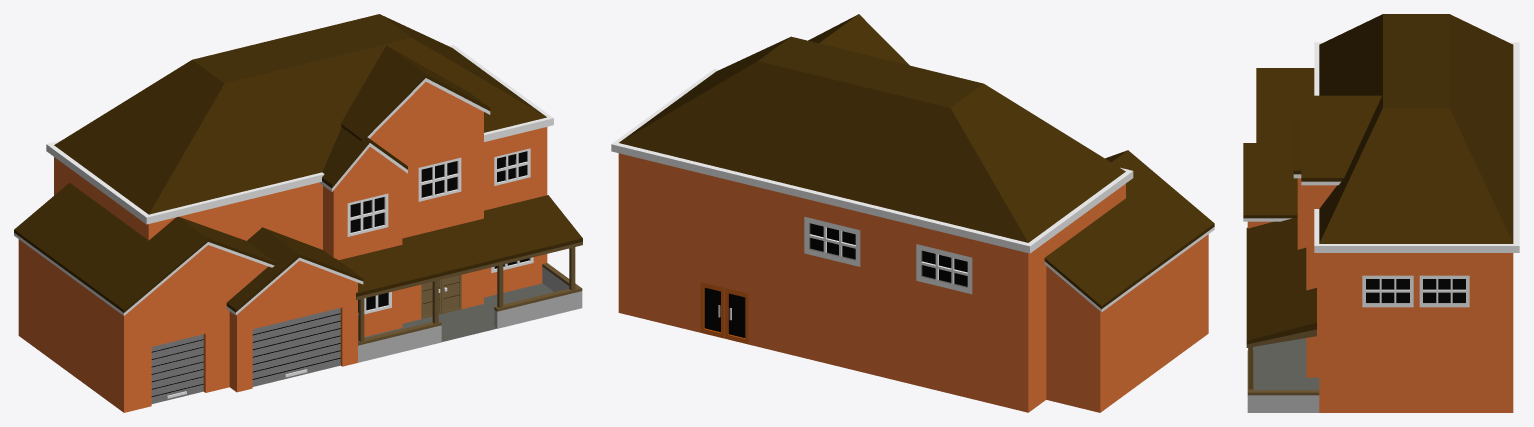
The model's file is House-01.fbx.
3 views of the same model, side by side, from view 1: azimuth 30°, elevation 25°; view 2: azimuth 150°, elevation 25°; view 3: azimuth 270°, elevation 25° (orthographic). The views are drawn at different scales.
Visible parts, largest first — view 1: Cube; view 2: Cube; view 3: Cube.
Boxes of the visible parts, bbox=[...] form: Cube: bbox=[14, 14, 582, 412]; Cube: bbox=[611, 14, 1214, 412]; Cube: bbox=[1243, 14, 1519, 412].
Size of what is drawn, in the model's own units: 21.98 by 11.34 by 11.22.
